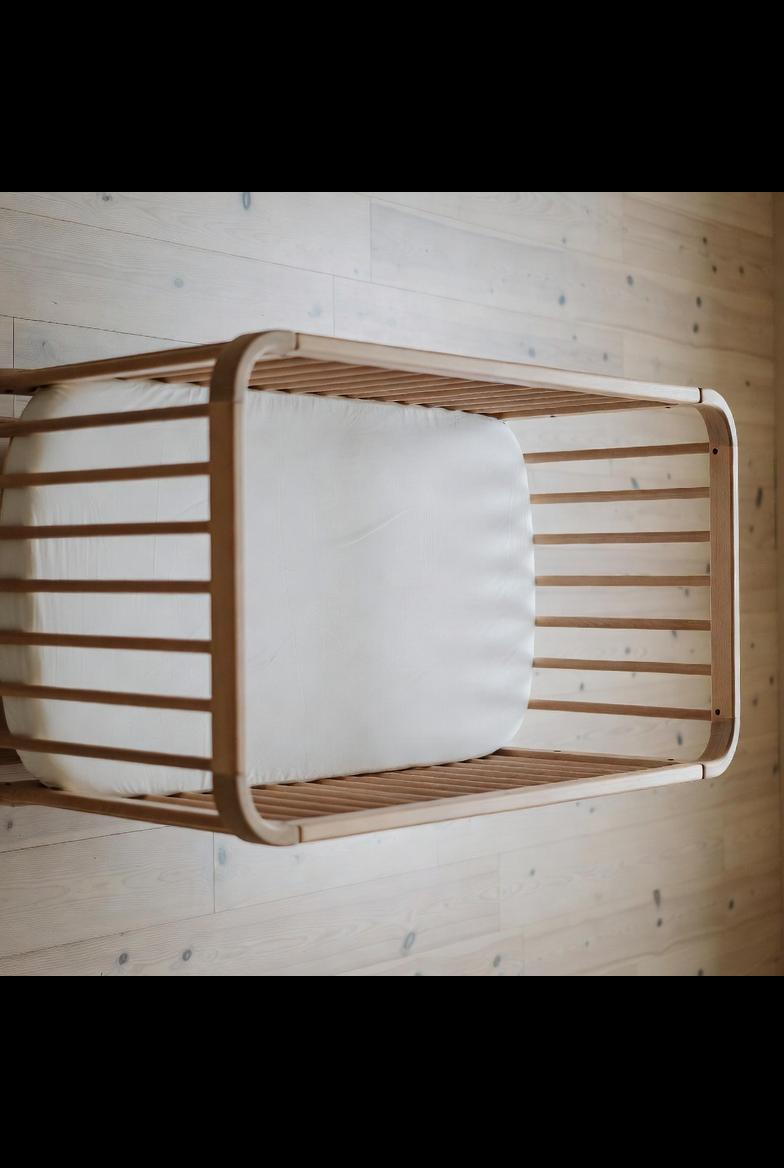crib: (0, 332, 738, 845)
